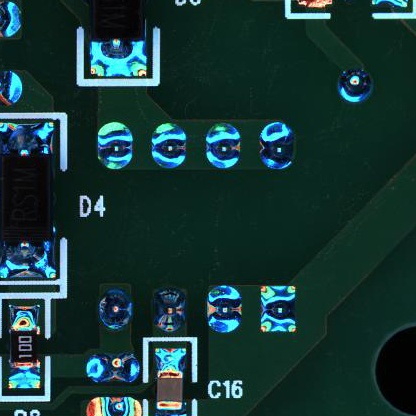spot: (204, 283, 244, 337), (258, 281, 298, 335), (83, 351, 139, 383), (96, 121, 131, 171), (151, 122, 187, 170), (204, 122, 240, 170), (259, 123, 295, 171), (95, 288, 133, 333), (153, 286, 189, 333), (336, 67, 373, 105)
